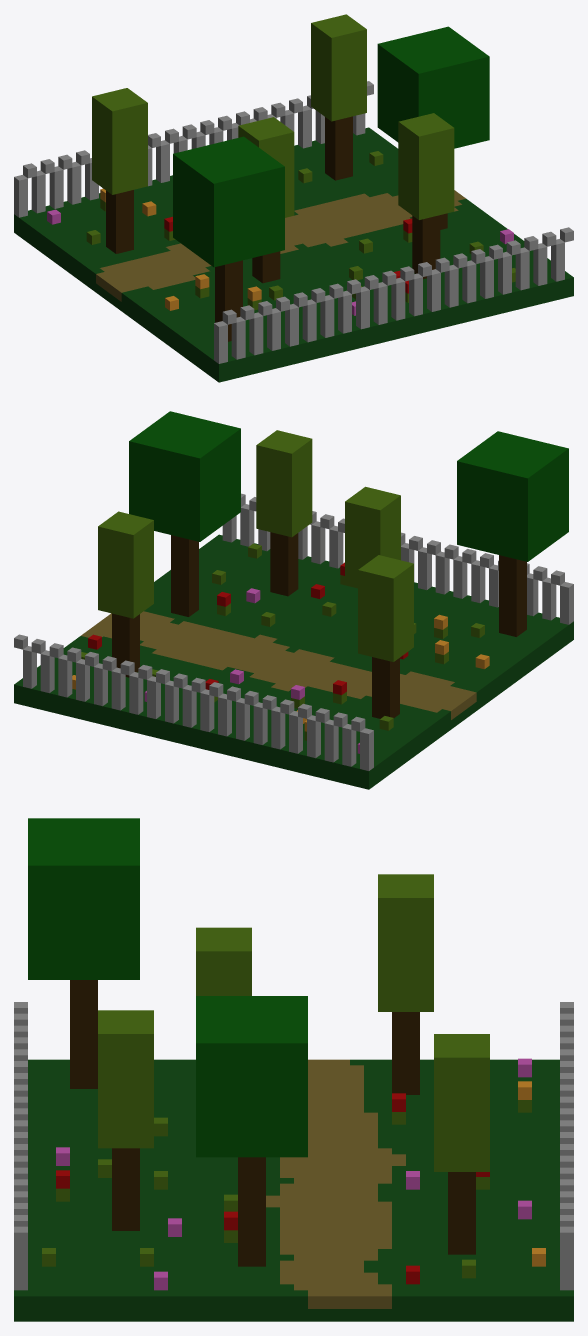
Rendered from Flowers and Tree Park Chunk.obj.
3 views of the same model, one above another, from view 1: azimuth 30°, elevation 25°; view 2: azimuth 150°, elevation 25°; view 3: azimuth 270°, elevation 25° (orthographic). The views are drawn at different scales.
Visible parts, largest first — view 1: Flowers and Tree Park Chunk; view 2: Flowers and Tree Park Chunk; view 3: Flowers and Tree Park Chunk.
Boxes of the visible parts, x1,y1,x2,y2 form: Flowers and Tree Park Chunk: (14,14,573,382); Flowers and Tree Park Chunk: (14,411,573,789); Flowers and Tree Park Chunk: (14,818,573,1321).
Bounding box in the file's own units: 40 × 21 × 40.
Materials: 1 (1 with a texture image).
